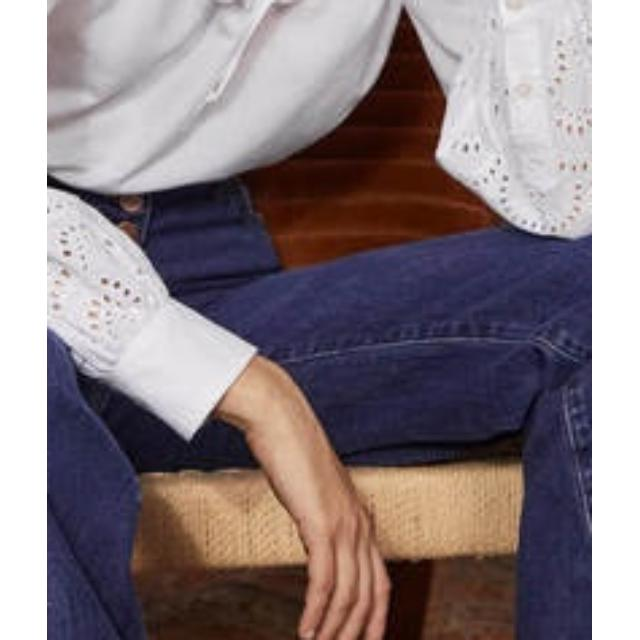cotton: (48, 0, 408, 172)
